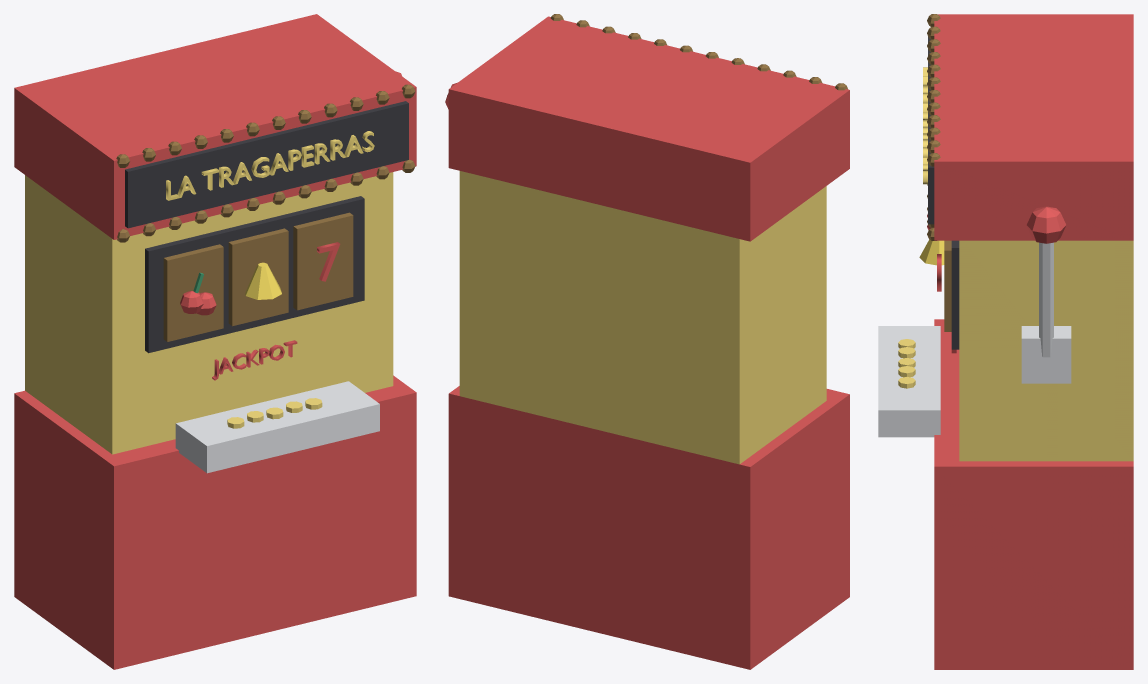
Rendered from CR_Tragaperras.fbx.
3 renders of one model, left to right at view 1: azimuth 30°, elevation 25°; view 2: azimuth 150°, elevation 25°; view 3: azimuth 270°, elevation 25°, orthographic.
Visible parts, largest first — view 1: CR_Tragaperras; view 2: CR_Tragaperras; view 3: CR_Tragaperras.
Part boxes in pixels (x1,y1,x2,y2): CR_Tragaperras: (14,14,416,669); CR_Tragaperras: (445,14,849,669); CR_Tragaperras: (878,14,1133,669).
Size of the model in its own units: 1.61 by 2.27 by 1.03.
